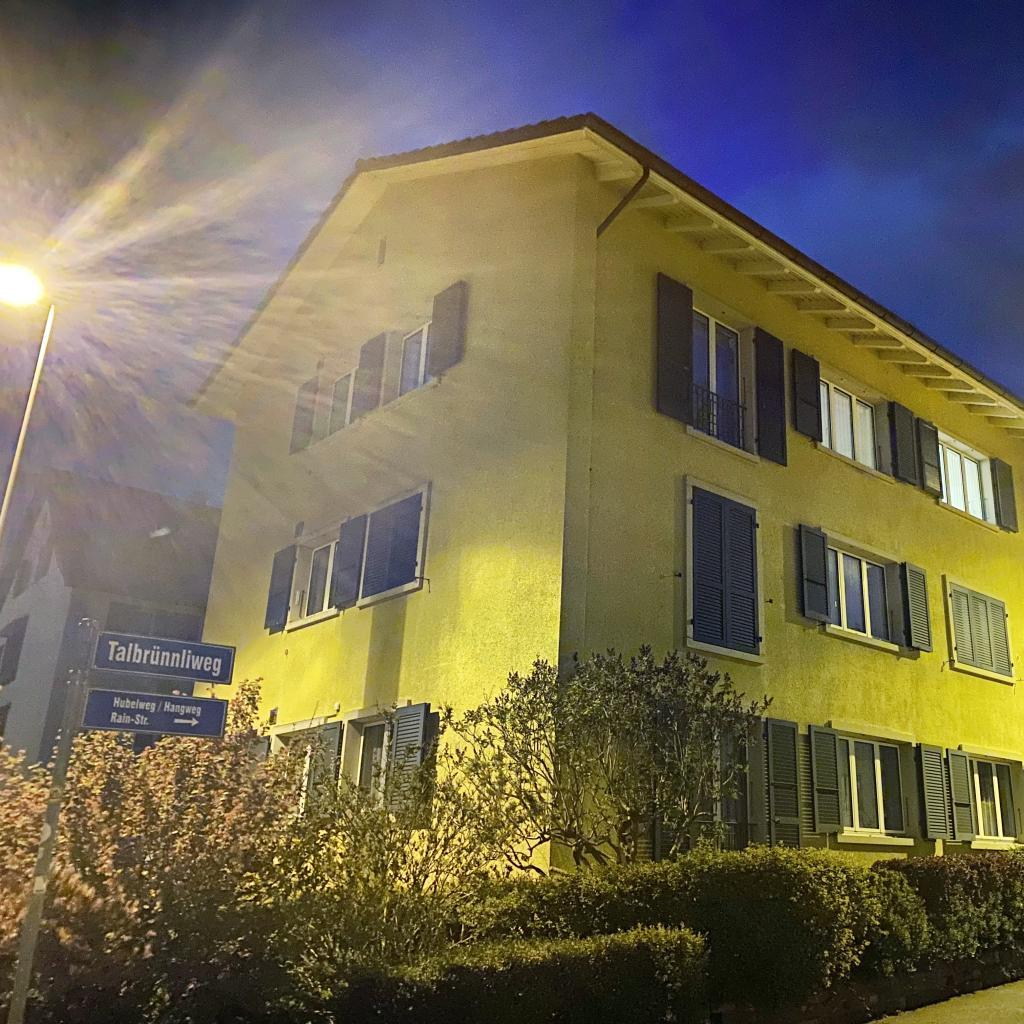balcony-fence: (691, 382, 747, 453)
facade: (0, 111, 1024, 888)
street: (868, 978, 1024, 1024)
traffic-infrastructure: (5, 612, 237, 1024), (0, 252, 60, 537)
vegetation: (0, 638, 1024, 1024)
window: (692, 484, 760, 657), (684, 709, 752, 846), (690, 305, 744, 448), (838, 735, 908, 834), (360, 492, 423, 599), (828, 543, 893, 643), (949, 583, 1012, 678), (820, 376, 881, 472), (967, 757, 1020, 841), (938, 438, 987, 523), (353, 720, 394, 821), (277, 731, 317, 826), (395, 318, 433, 398), (305, 539, 339, 616), (326, 365, 359, 437), (106, 603, 152, 632), (154, 610, 201, 635), (33, 535, 54, 584), (14, 556, 33, 599)
